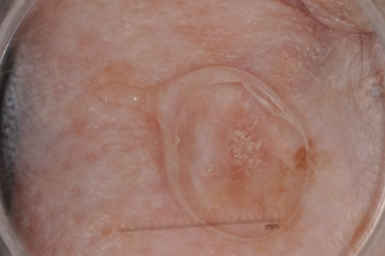seborrheic keratosis: (140, 73, 302, 204)
